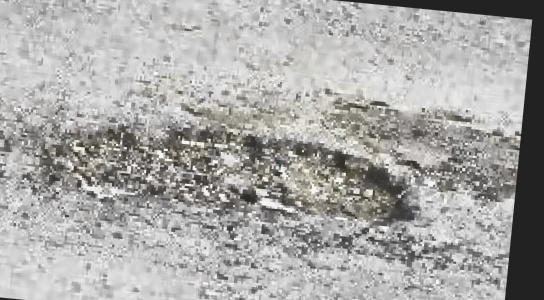pothole: (33, 105, 425, 231)
